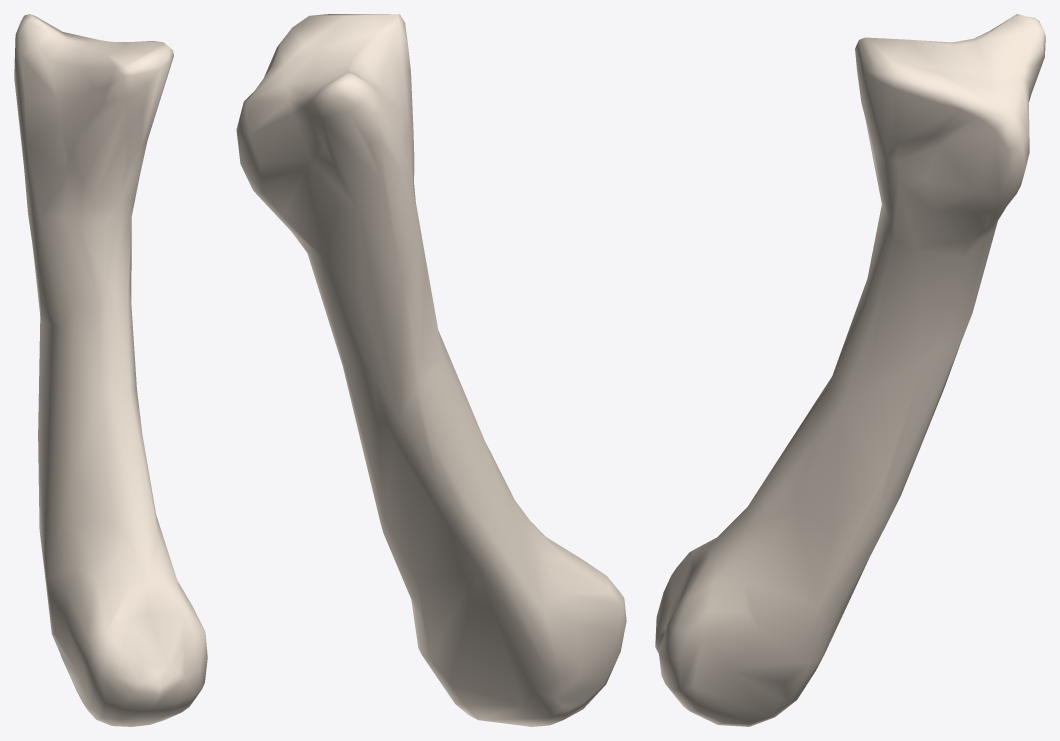
File: right_metacarpal_3.glb
The picture shows the model from 3 angles, left to right: view 1: azimuth 30°, elevation 25°; view 2: azimuth 150°, elevation 25°; view 3: azimuth 270°, elevation 25°; orthographic projection. The views are drawn at different scales.
Visible parts, largest first — view 1: 3rd metacarpal bone.r; view 2: 3rd metacarpal bone.r; view 3: 3rd metacarpal bone.r.
Boxes of the visible parts, x1=… form: 3rd metacarpal bone.r: x1=14, y1=14, x2=207, y2=726; 3rd metacarpal bone.r: x1=236, y1=14, x2=626, y2=726; 3rd metacarpal bone.r: x1=655, y1=14, x2=1045, y2=726.
Bounding box in the file's own units: 0.0147 × 0.0483 × 0.0241.
